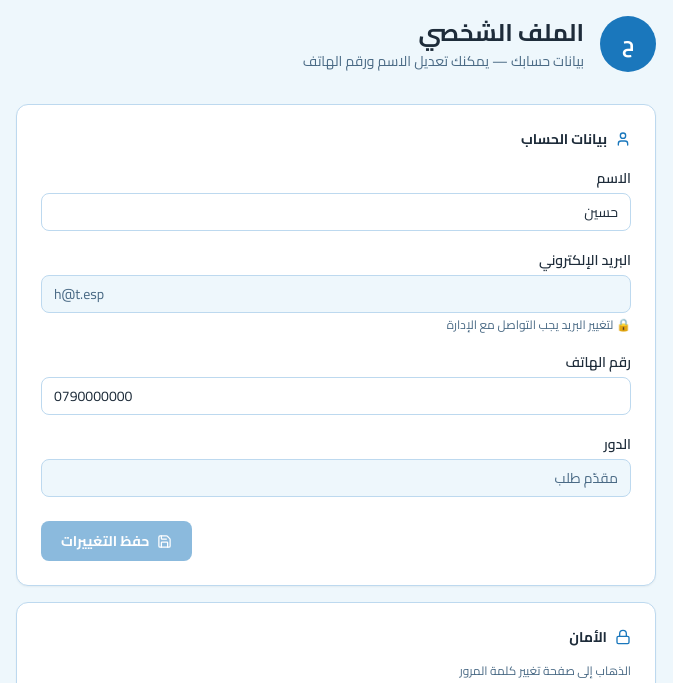
Profile — JORD-10 › shows a success banner after saving
Type "x" into the field labelled "الاسم" at [336, 212], box [41, 193, 631, 231]
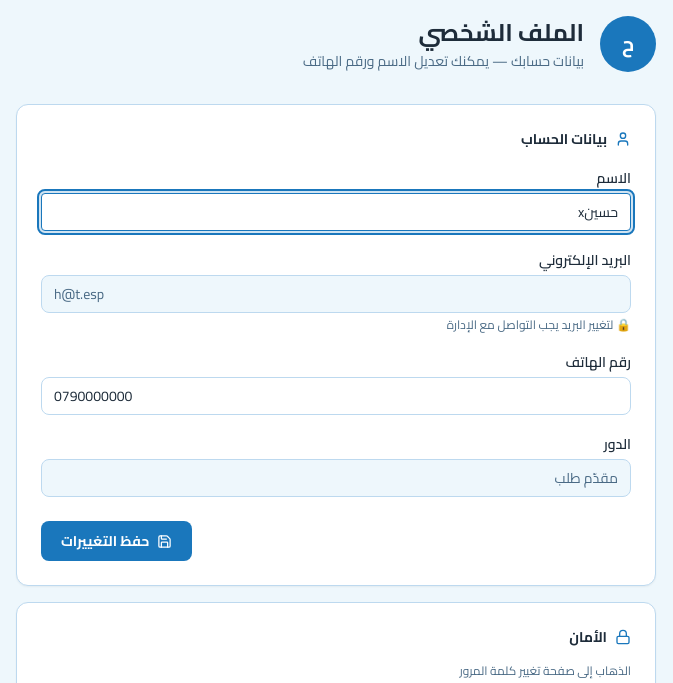
Click the button "حفظ التغييرات" at [117, 541], box [41, 521, 192, 561]
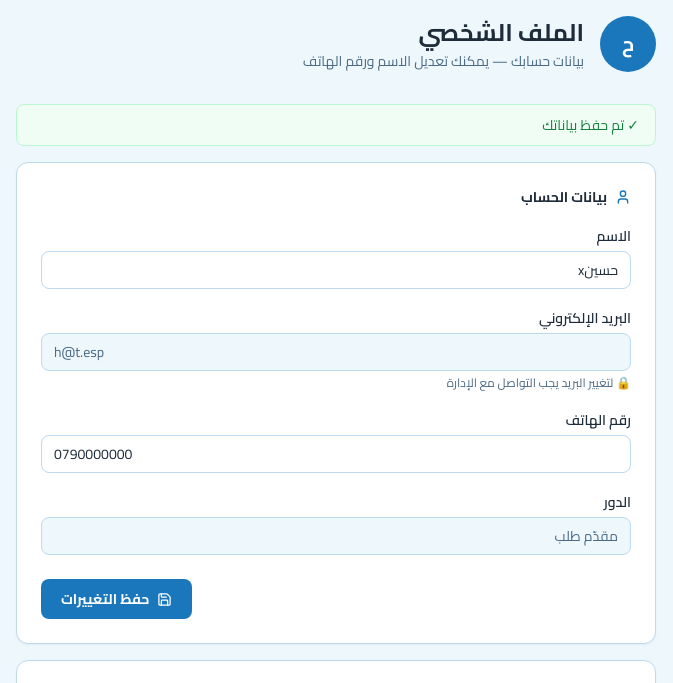
expect the text "✓ تم حفظ بياناتك" is shown: met, box [16, 104, 656, 146]
